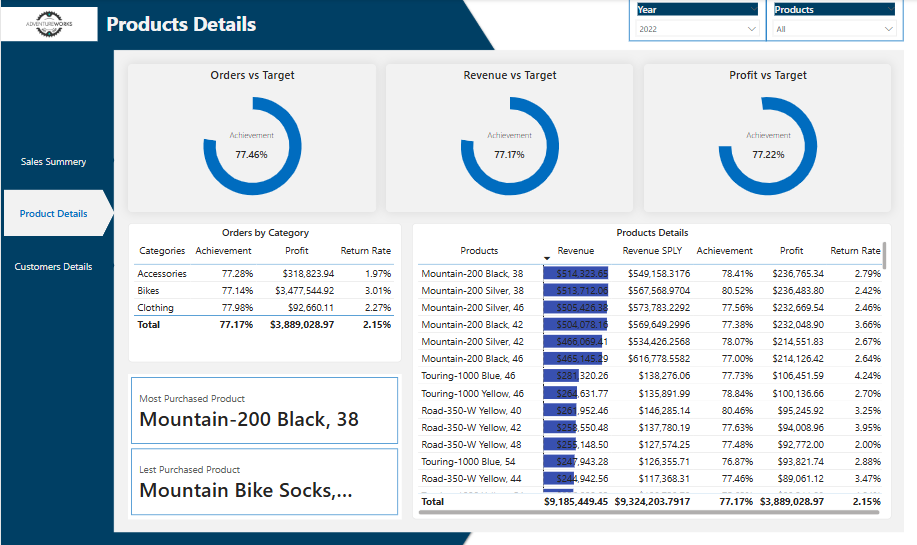

This screenshot's page, from the dashboard's own definition file:
{"tool":"powerbi","page":{"name":"Product Details","canvas":[1500,900],"ordinal":1},"visuals":[{"type":"image","title":"AW Logo","box":[0,12.6,158.4,55.8],"z":0},{"type":"tableEx","title":"Orders by Category","fields":{"Values":["Product Categories Dim.CategoryName","Measure Data.Revenue Achievement","Measure Data.Total Profit","Measure Data.Return Rate"]},"box":[207.9,367,447.6,228.5],"z":1000},{"type":"tableEx","title":"Products Details","fields":{"Values":["Products Dim.ProductName","Measure Data.Total Revenue","Measure Data.Total revenue SPLY","Measure Data.Revenue Achievement","Measure Data.Total Profit","Measure Data.Return Rate"]},"box":[672.3,367,784.6,485],"z":3000},{"type":"textbox","box":[167.4,12.6,466.2,55.8],"z":5000},{"type":"group","id":"g1","title":"Group 3","box":[1028.1,0,449.4,69.3],"z":6000},{"type":"donutChart","title":"Orders vs Target","fields":{"Y":["Measure Data.Total Orders","Measure Data.Order Target Gap_ABS"]},"box":[207.8,106.4,405.8,242.2],"z":7000,"group":"g2"},{"type":"slicer","fields":{"Values":["Calendar_Table.Year"]},"box":[1028.1,0,224.7,69.3],"z":8000,"group":"g1"},{"type":"donutChart","title":"Profit vs Target","fields":{"Y":["Measure Data.Profit Target Gap_ABS","Measure Data.Total Profit"]},"box":[1052.2,106.4,404.2,242.2],"z":8000,"group":"g4"},{"type":"donutChart","title":"Revenue vs Target","fields":{"Y":["Measure Data.Total Revenue","Measure Data.Revenue Target Gap_ABS"]},"box":[630,106.4,404.2,242.2],"z":9000,"group":"g3"},{"type":"cardVisual","fields":{"Data":["Measure Data.Most Purchased Product","Measure Data.Lest Purchased Product"]},"box":[207.9,614.2,447.6,237.8],"z":10000},{"type":"card","title":"Achievement","fields":{"Values":["Measure Data.Revenue Achievement"]},"box":[780.4,213,102.9,68.9],"z":11000,"group":"g3"},{"type":"card","title":"Achievement","fields":{"Values":["Measure Data.Orders Achievement"]},"box":[357.9,213,103.2,68.9],"z":11001,"group":"g2"},{"type":"card","title":"Achievement","fields":{"Values":["Measure Data.Profit Achievement"]},"box":[1203.8,213,102.9,68.9],"z":11002,"group":"g4"},{"type":"group","id":"g2","title":"Group 2","box":[207.8,106.4,405.8,242.2],"z":11003},{"type":"group","id":"g3","title":"Group 4","box":[630,106.4,404.2,242.2],"z":11004},{"type":"group","id":"g4","title":"Group 5","box":[1052.2,106.4,404.2,242.2],"z":11005},{"type":"pageNavigator","box":[5.6,226.6,181.6,250],"z":11006},{"type":"slicer","fields":{"Values":["Products Dim.ProductName"]},"box":[1252.8,0,224.7,69.3],"z":22004,"group":"g1"}]}

Visuals, with their boxes on the page's 1500x900 design canvas (x1, y1, x2, y2). These are canvas units, not pixel positions in the 917x545 screenshot, which may show the page scaled, cropped or inside an application window:
"AW Logo" image: crop(0, 13, 158, 68)
"Orders by Category" tableEx: crop(208, 367, 656, 596)
"Products Details" tableEx: crop(672, 367, 1457, 852)
textbox: crop(167, 13, 634, 68)
"Group 3" group: crop(1028, 0, 1478, 69)
"Orders vs Target" donutChart: crop(208, 106, 614, 349)
slicer - Calendar_Table.Year: crop(1028, 0, 1253, 69)
"Profit vs Target" donutChart: crop(1052, 106, 1456, 349)
"Revenue vs Target" donutChart: crop(630, 106, 1034, 349)
cardVisual - Measure Data.Most Purchased Product x Measure Data.Lest Purchased Product: crop(208, 614, 656, 852)
"Achievement" card: crop(780, 213, 883, 282)
"Achievement" card: crop(358, 213, 461, 282)
"Achievement" card: crop(1204, 213, 1307, 282)
"Group 2" group: crop(208, 106, 614, 349)
"Group 4" group: crop(630, 106, 1034, 349)
"Group 5" group: crop(1052, 106, 1456, 349)
pageNavigator: crop(6, 227, 187, 477)
slicer - Products Dim.ProductName: crop(1253, 0, 1478, 69)
